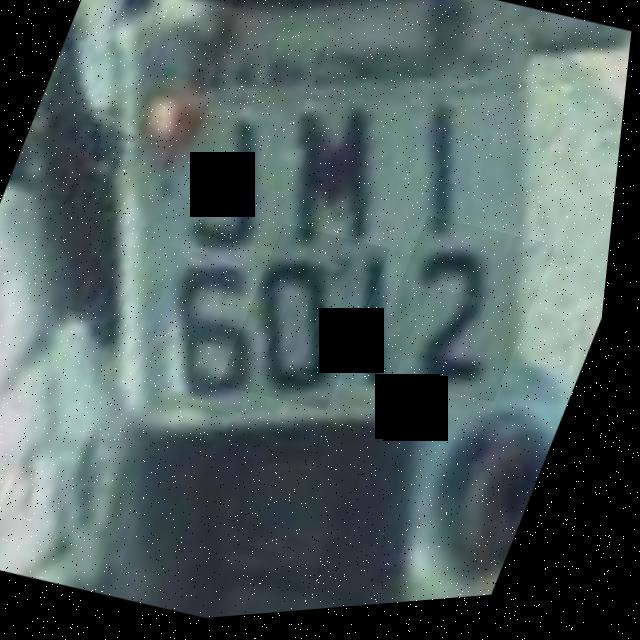0: (224, 222, 399, 424)
1: (318, 245, 450, 404)
2: (370, 214, 567, 420)
6: (130, 228, 314, 429)
J: (157, 97, 324, 278)
N: (234, 66, 439, 285)
